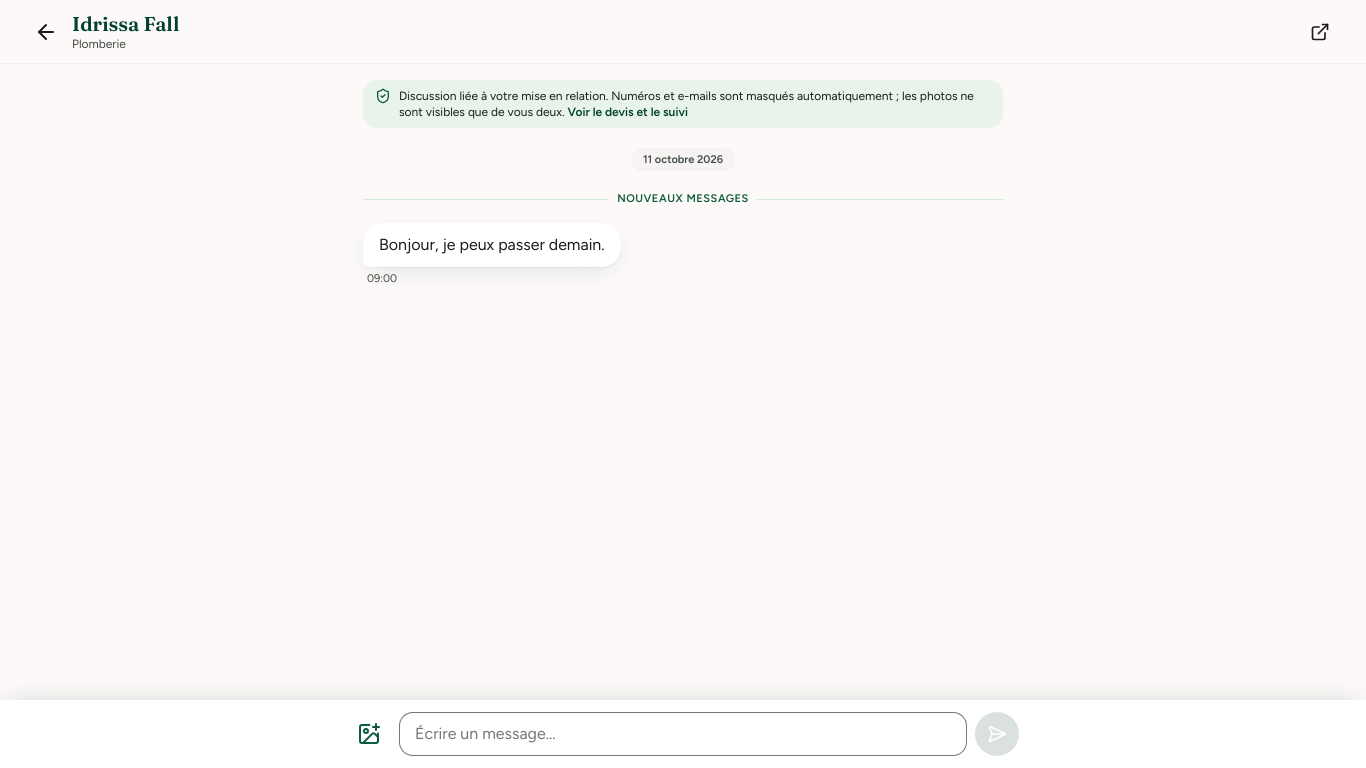
it: ConversationScreen › garde le message en échec avec la raison, puis le renvoie sur « Réessayer »
Check: the text "Bonjour, je peux passer demain." is shown, box [379,233,605,257]
Type "Je confirme" into the text box named "Votre message" at (683, 734), box [399,712,967,756]
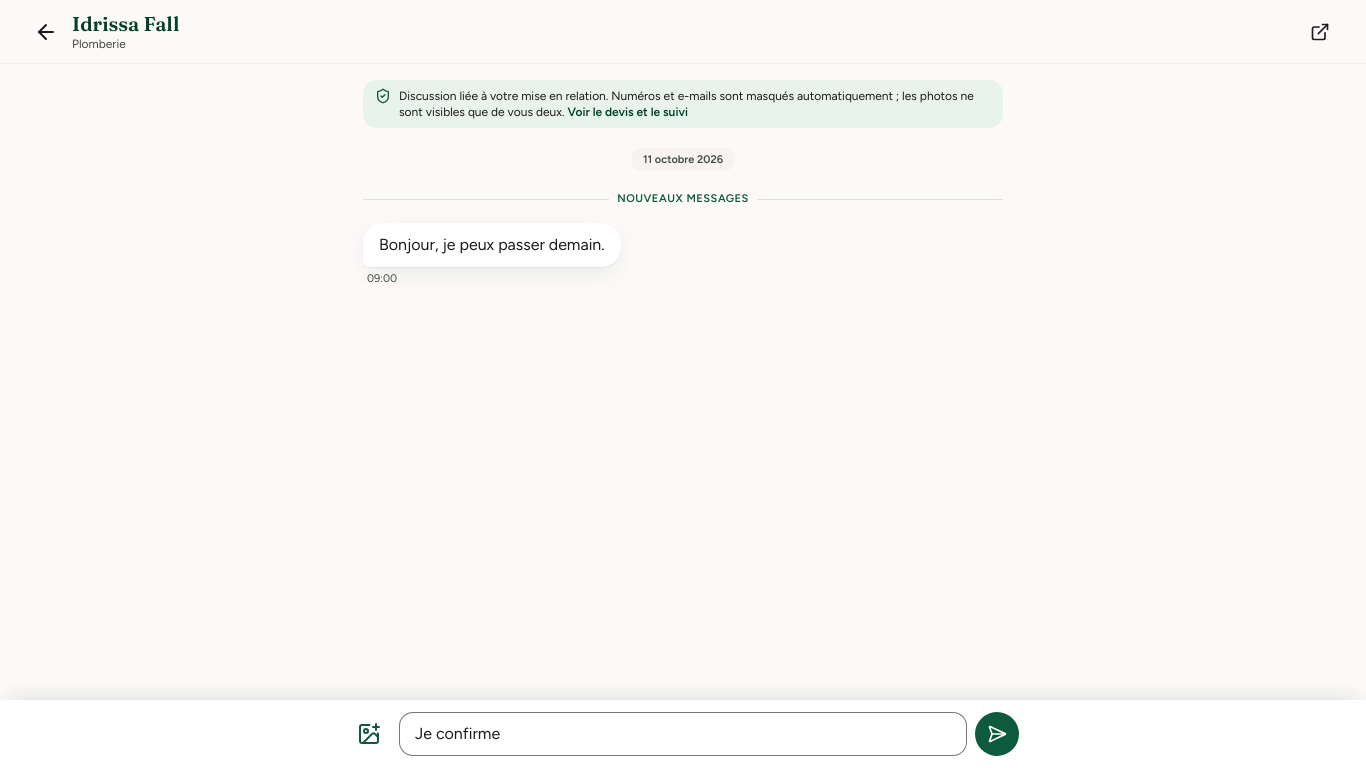
Click the button named "Envoyer" at (997, 734), box [975,712,1019,756]
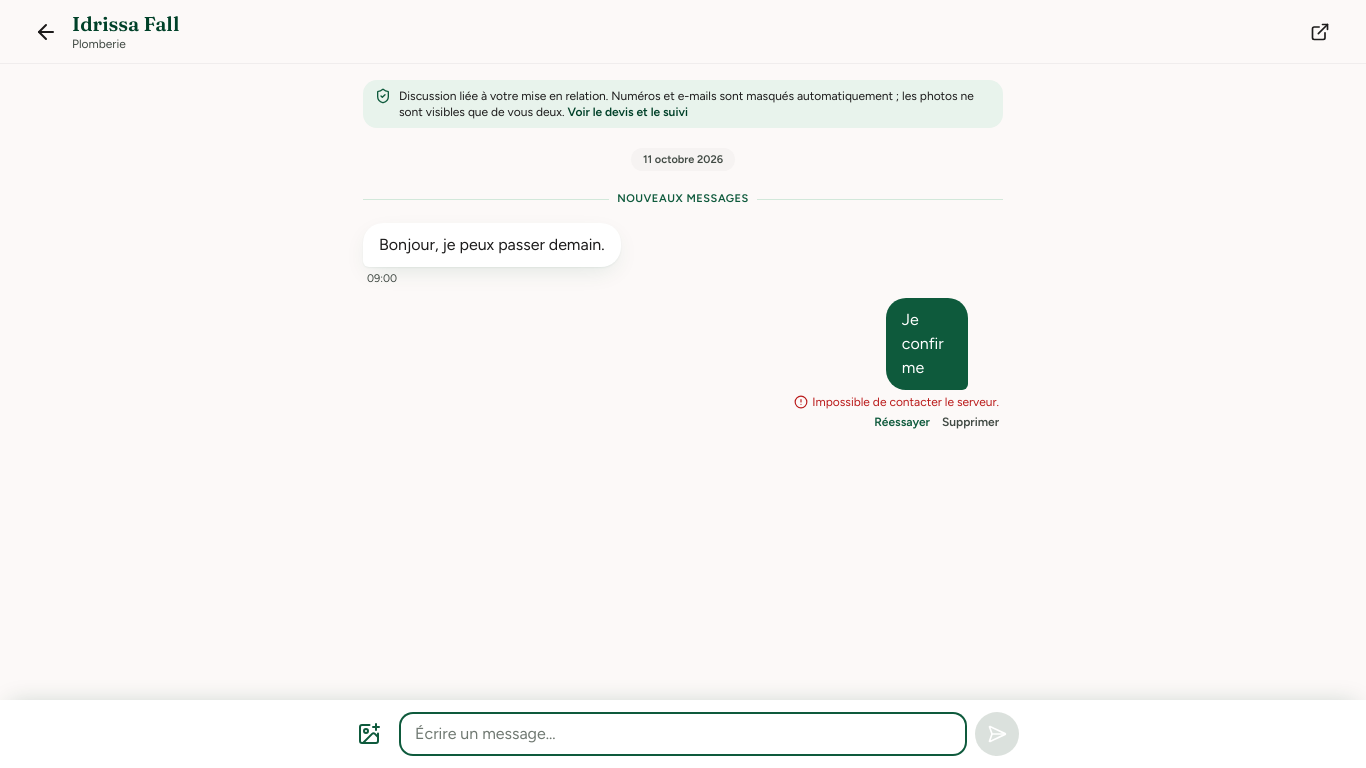
Check: the message shows "Impossible de contacter le serveur.", box [812,395,999,409]
Click the button "Réessayer" at (902, 422), box [874,414,930,430]
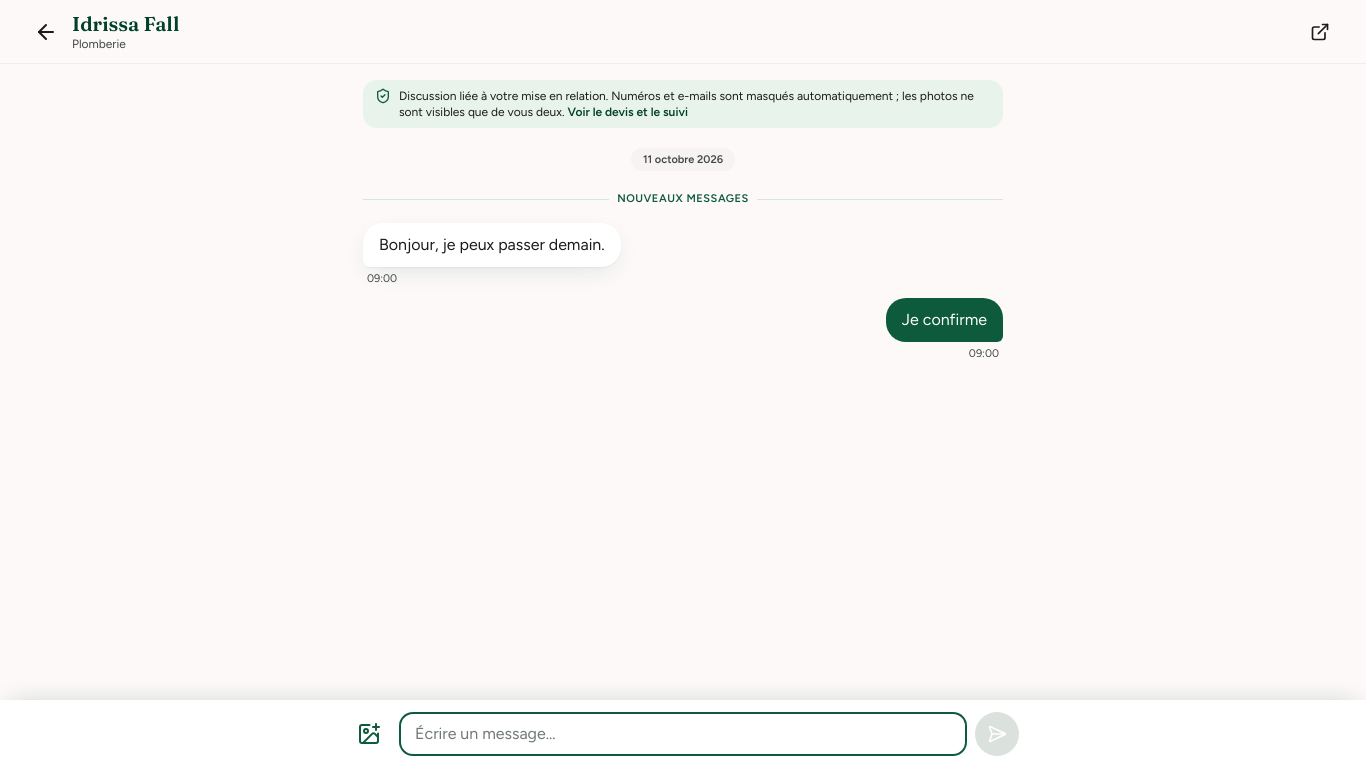
Check: the text "Je confirme" is shown, box [902,308,987,332]
Check: the message "Impossible de contacter le serveur. Réessayer Supprimer" is gone
